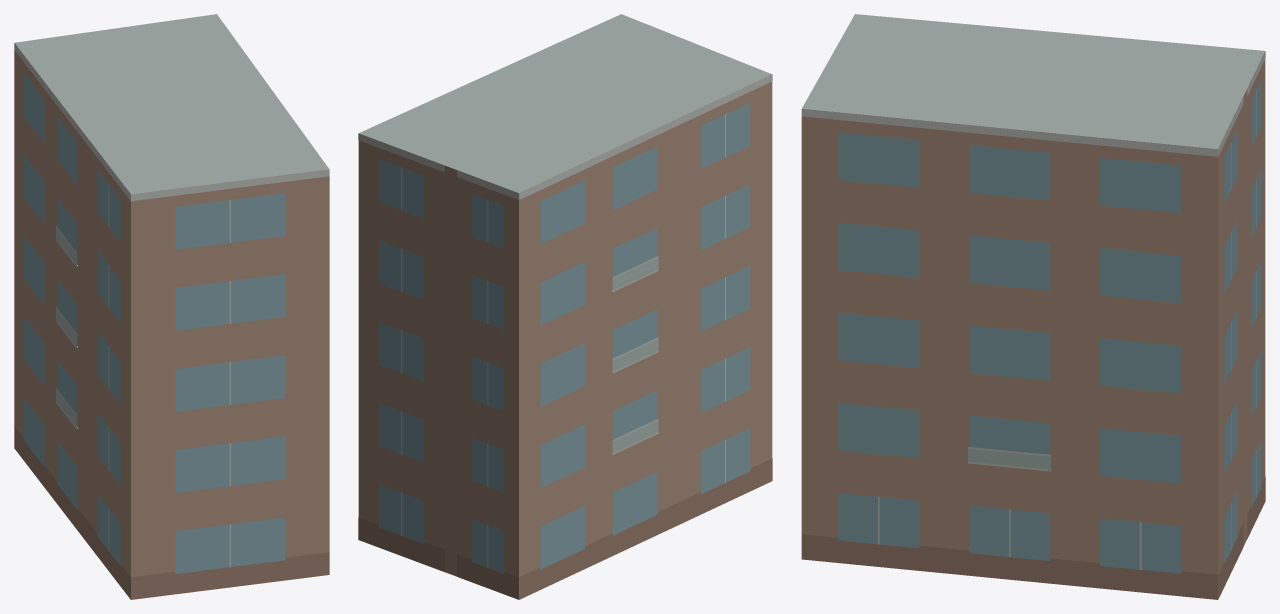
File: survey-upis-32773435.glb
3 renders of one model, left to right at view 1: azimuth 30°, elevation 25°; view 2: azimuth 150°, elevation 25°; view 3: azimuth 270°, elevation 25°, orthographic. The views are drawn at different scales.
Visible parts, largest first — view 1: survey-upis-32773435.tmp; view 2: survey-upis-32773435.tmp; view 3: survey-upis-32773435.tmp.
Part boxes in pixels (x1,y1,x2,y2): survey-upis-32773435.tmp: [14, 14, 329, 599]; survey-upis-32773435.tmp: [358, 14, 772, 599]; survey-upis-32773435.tmp: [801, 14, 1265, 599].
Size of the model in its own units: 9.19 by 14.27 by 13.32.
